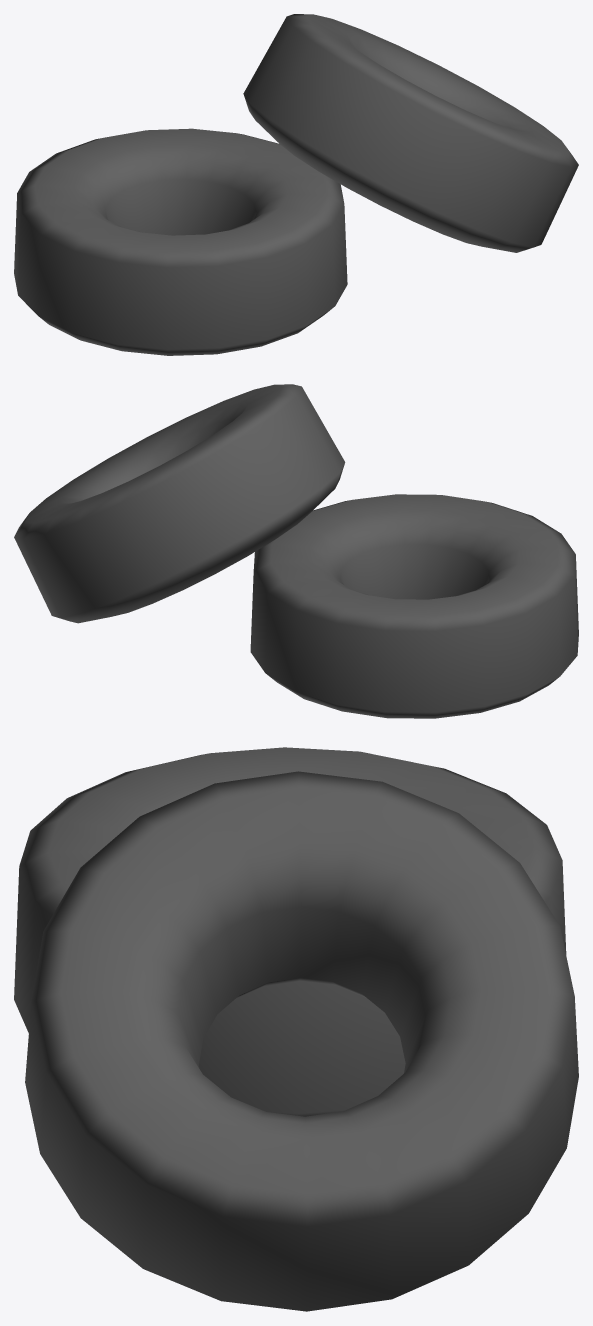
File: Tires.fbx
The picture shows the model from 3 angles, top to bottom: view 1: azimuth 30°, elevation 25°; view 2: azimuth 150°, elevation 25°; view 3: azimuth 270°, elevation 25°; orthographic projection. The views are drawn at different scales.
Parts seen in each view (by area): view 1: Tires; view 2: Tires; view 3: Tires.
Boxes of the visible parts, x1=… form: Tires: x1=14, y1=14, x2=578, y2=355; Tires: x1=14, y1=384, x2=578, y2=718; Tires: x1=14, y1=747, x2=578, y2=1311.
Bounding box in the file's own units: 124 × 70.38 × 52.59.
